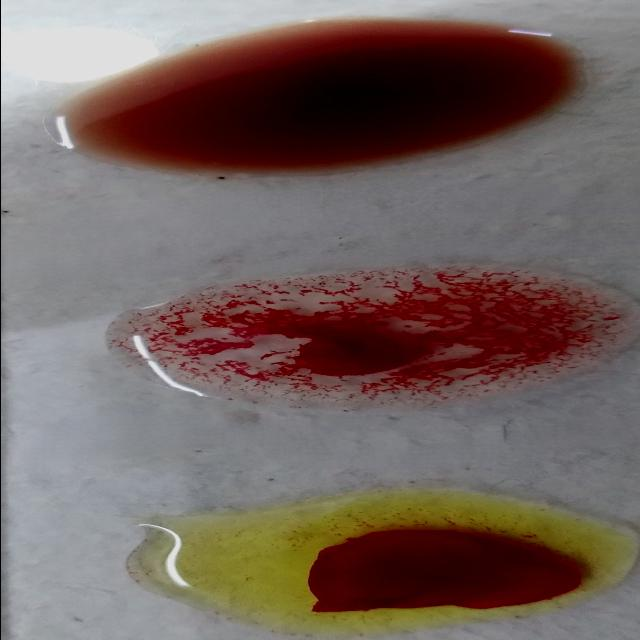B: (129, 491, 640, 633)
D: (113, 270, 622, 390)
